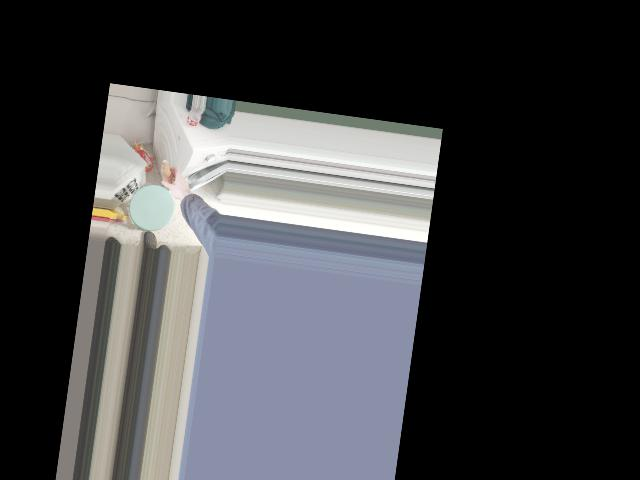sweet_potato: (157, 160, 182, 198)
